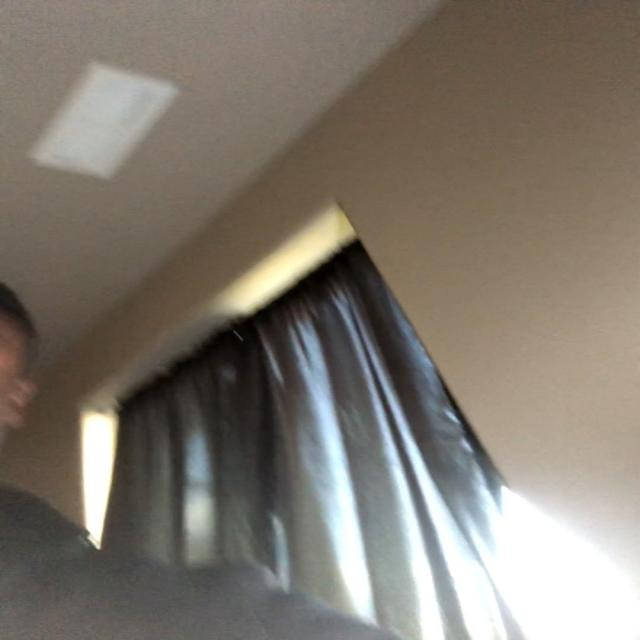face: (0, 284, 41, 456)
